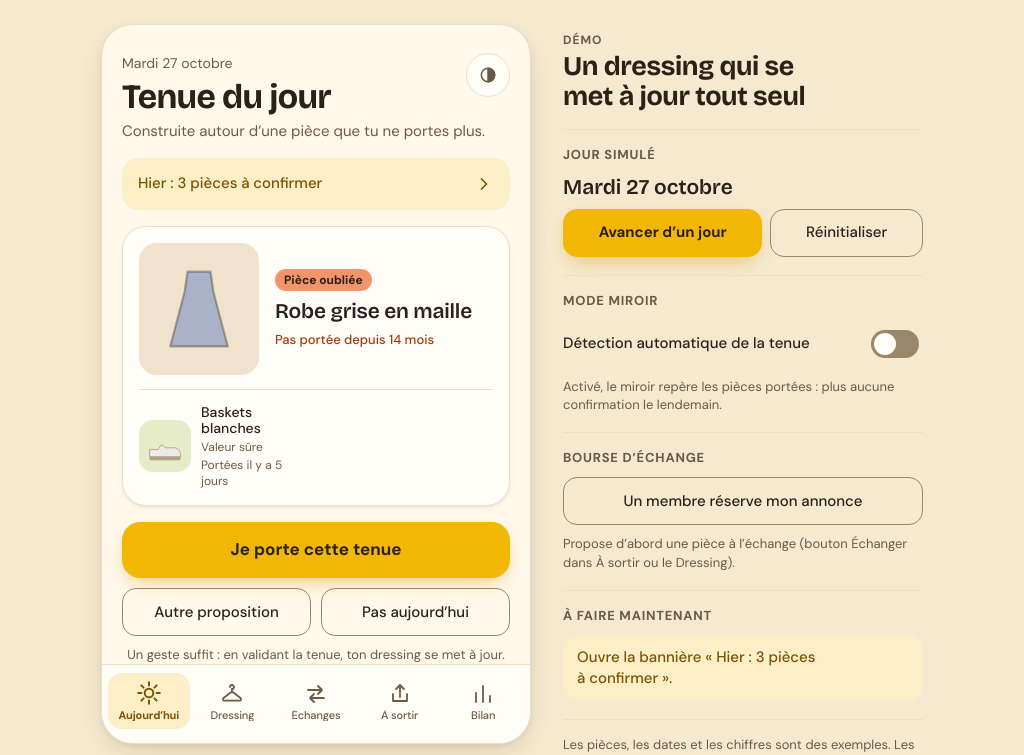
Test case: écran Aujourd’hui › compte seulement les pièces encore actives dans la bannière
The image size is (1024, 755).
Expected: the link "Hier : 3 pièces à confirmer" is shown, [122,158,510,210]
// Une action de l'écran recharge les données.
Click the button "Pas aujourd’hui": (416, 612) [321,588,510,636]
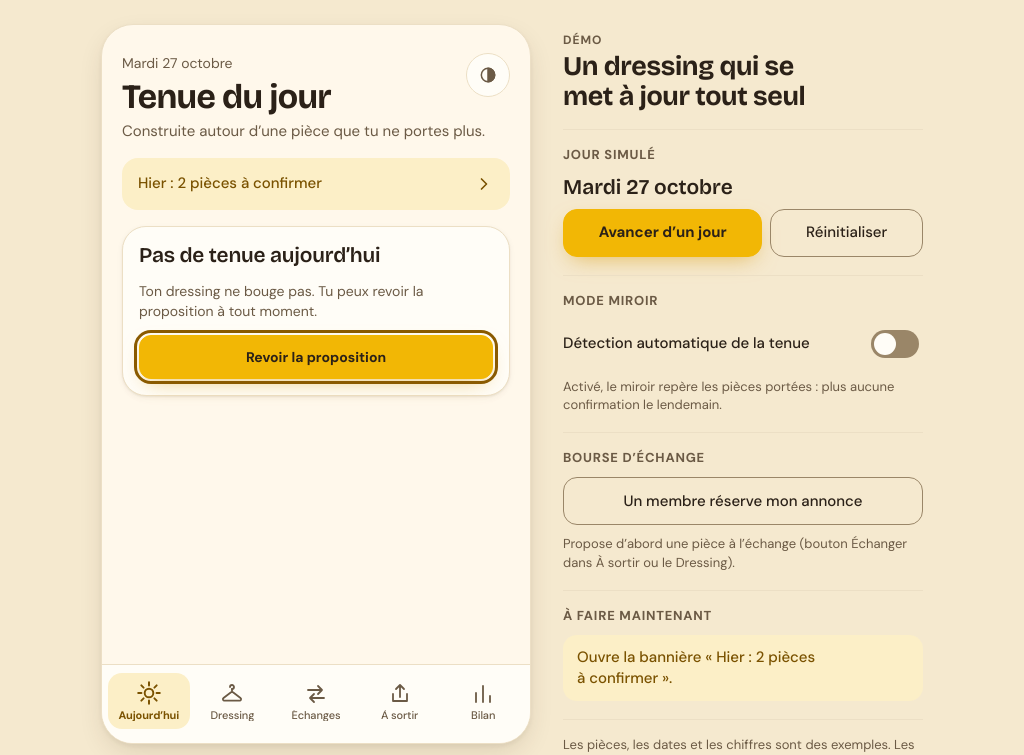
Expected: the link "Hier : 2 pièces à confirmer" is shown, [122,158,510,210]
